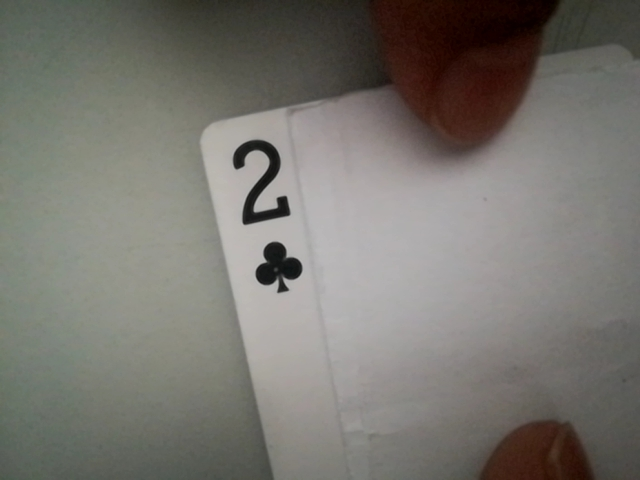mh 2: (222, 126, 315, 299)
